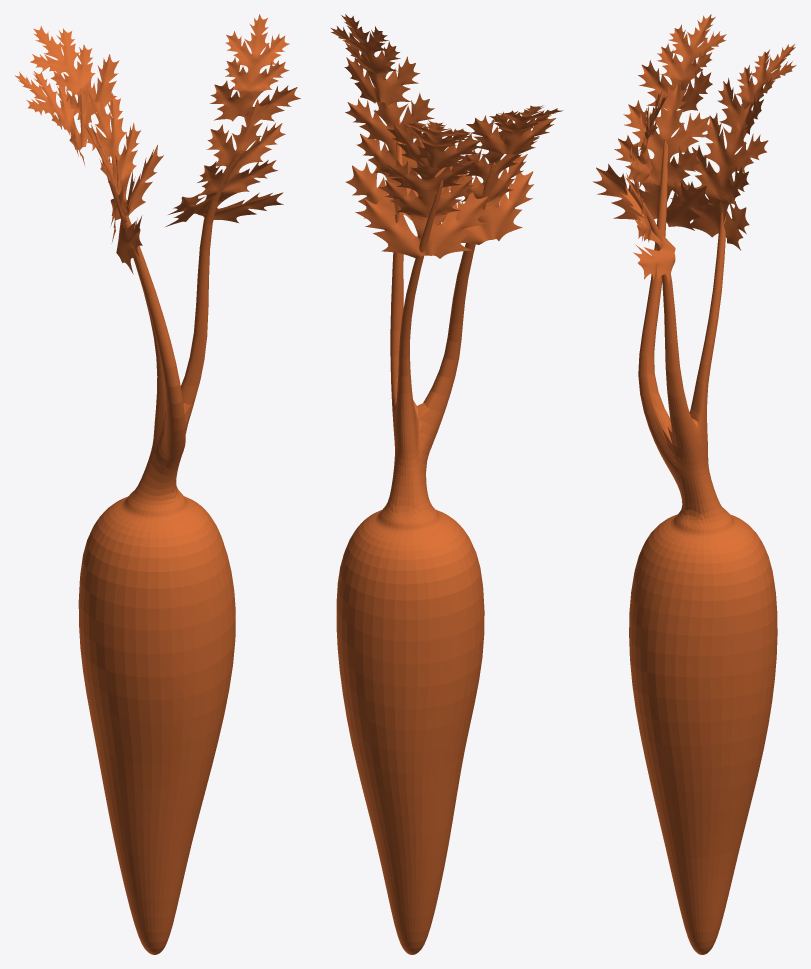
Rendered from carrot.fbx.
3 views of the same model, side by side, from view 1: azimuth 30°, elevation 25°; view 2: azimuth 150°, elevation 25°; view 3: azimuth 270°, elevation 25° (orthographic). The views are drawn at different scales.
Visible parts, largest first — view 1: 10170_Carrot_v01; view 2: 10170_Carrot_v01; view 3: 10170_Carrot_v01.
Part boxes in pixels (x1,y1,x2,y2): 10170_Carrot_v01: (15, 14, 300, 954); 10170_Carrot_v01: (331, 14, 563, 954); 10170_Carrot_v01: (592, 14, 796, 954).
Bounding box in the file's own units: 76.83 × 273 × 56.11.
